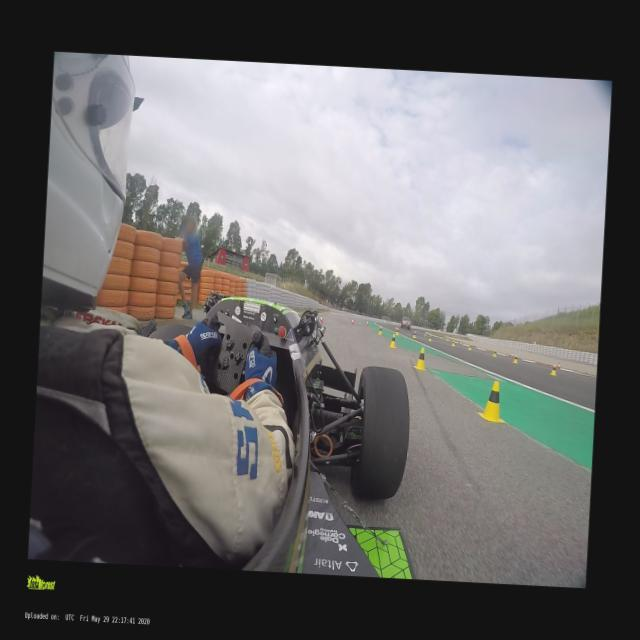orange_cone: (319, 314, 324, 324), (350, 318, 354, 326), (556, 362, 560, 370), (510, 352, 514, 358), (459, 341, 462, 346), (366, 321, 368, 326)
yellow_cone: (478, 380, 508, 422), (413, 347, 428, 371), (548, 365, 558, 377), (388, 335, 396, 348), (512, 356, 518, 364), (492, 350, 497, 358), (378, 326, 382, 334), (396, 328, 400, 336), (451, 340, 455, 347), (428, 335, 432, 341), (468, 345, 472, 351), (413, 332, 416, 338)
